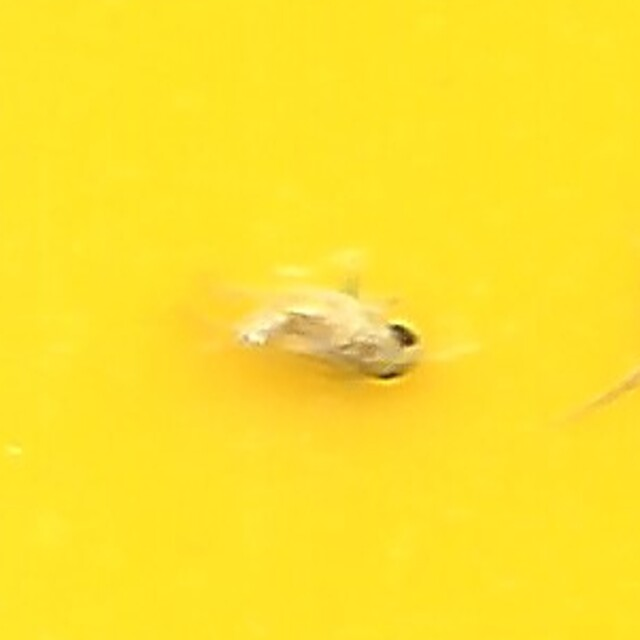Hemiptera: (213, 242, 427, 398)
